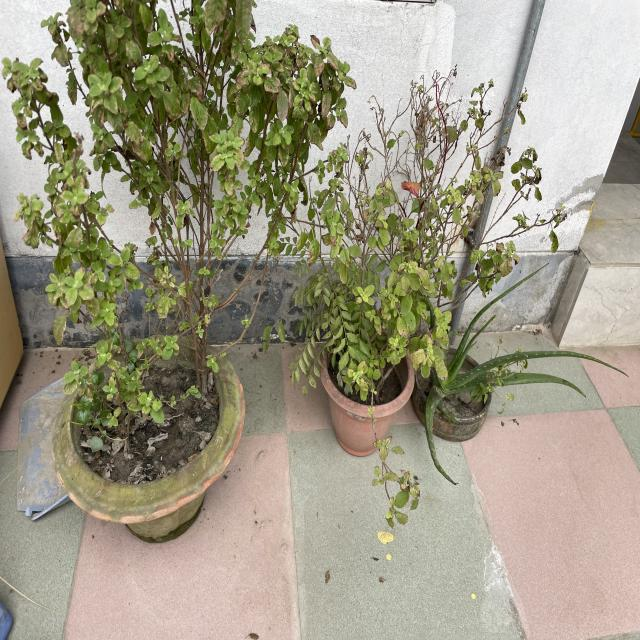Breeding Place: (46, 316, 257, 548), (298, 284, 416, 463), (389, 329, 506, 451)
